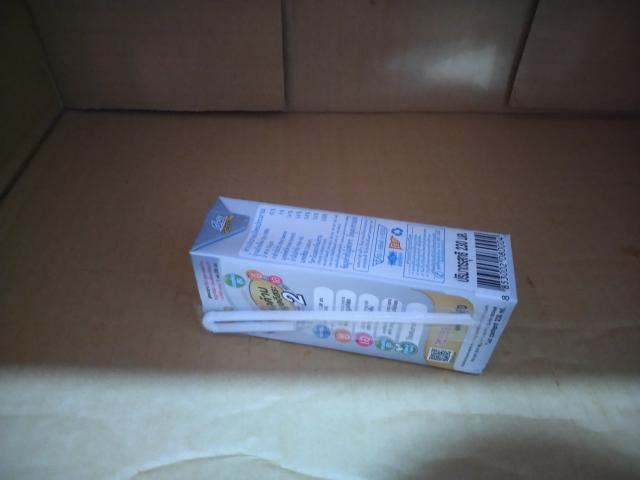drink_box: (157, 165, 555, 394)
